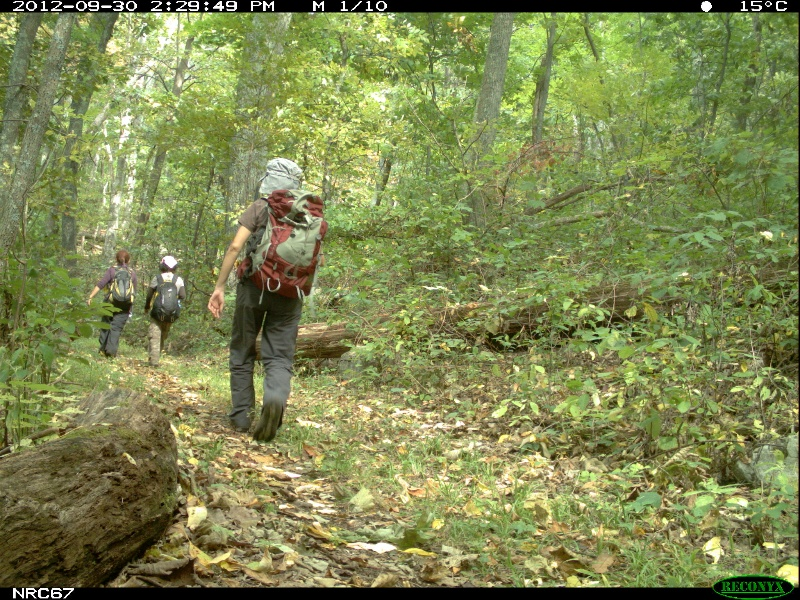human: (206, 150, 321, 448), (89, 246, 136, 362), (147, 249, 179, 369)
human legs: (227, 273, 301, 444), (97, 301, 131, 364), (145, 306, 178, 368)
